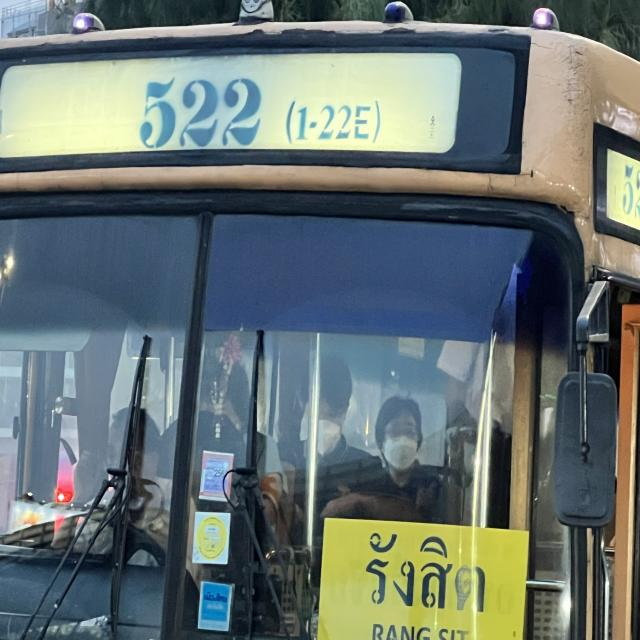BMTA-bus: (0, 0, 640, 640)
Bus-Line-Number: (121, 56, 387, 164)
Destination-Sign-Normal-Expressway: (318, 519, 530, 640)
